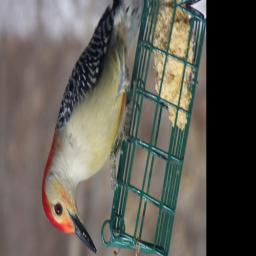Woodpecker: (41, 0, 142, 256)
